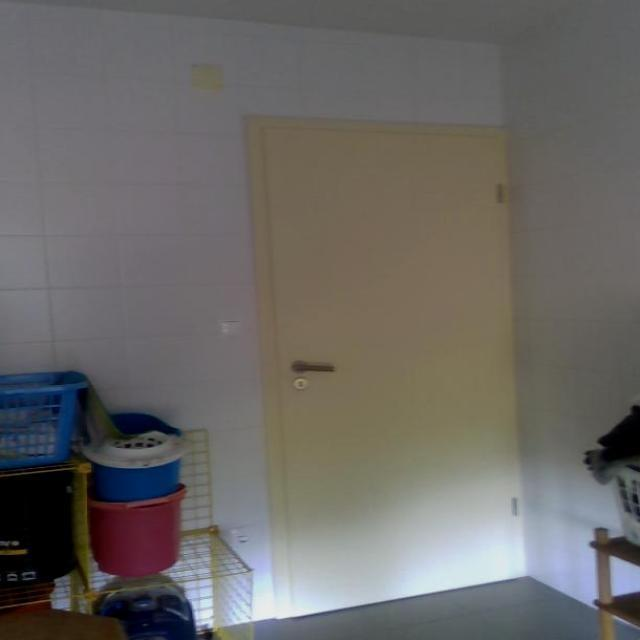door: (244, 114, 526, 618)
